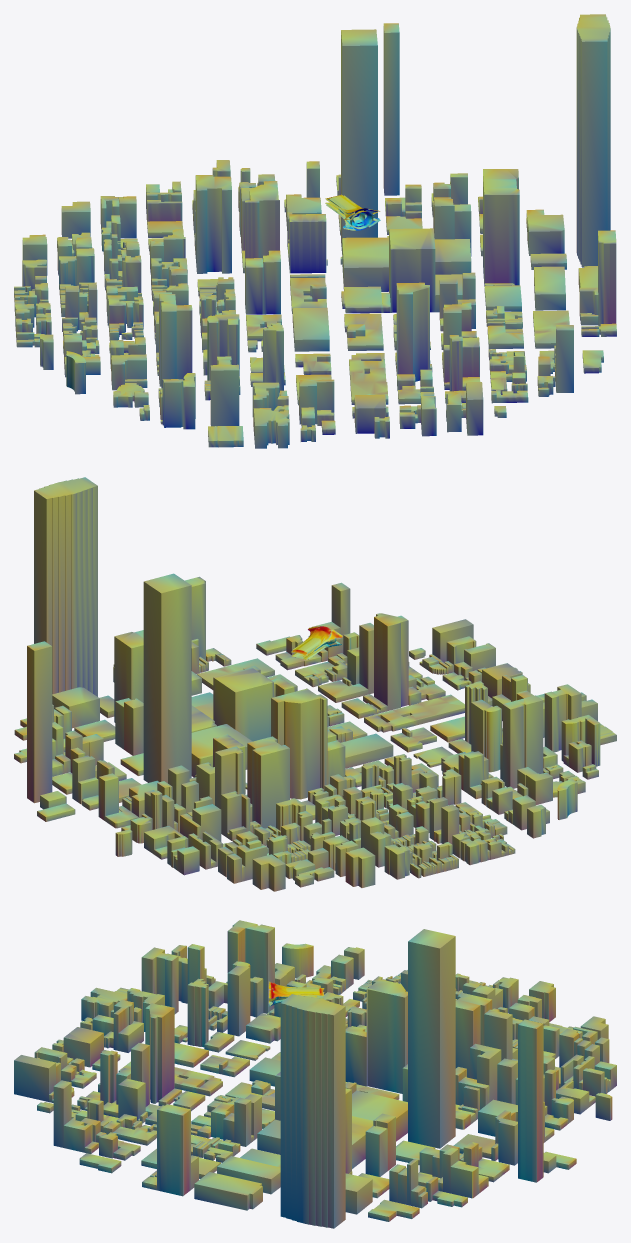
The model's file is solar_radiation_model.glb.
The picture shows the model from 3 angles, top to bottom: view 1: azimuth 30°, elevation 25°; view 2: azimuth 150°, elevation 25°; view 3: azimuth 270°, elevation 25°; orthographic projection. The views are drawn at different scales.
Visible parts, largest first — view 1: world; view 2: world; view 3: world.
Part boxes in pixels (x1,y1,x2,y2): world: [14, 14, 616, 448]; world: [14, 477, 616, 891]; world: [14, 920, 616, 1228].
Bounding box in the file's own units: 10896 × 4230 × 10833.
